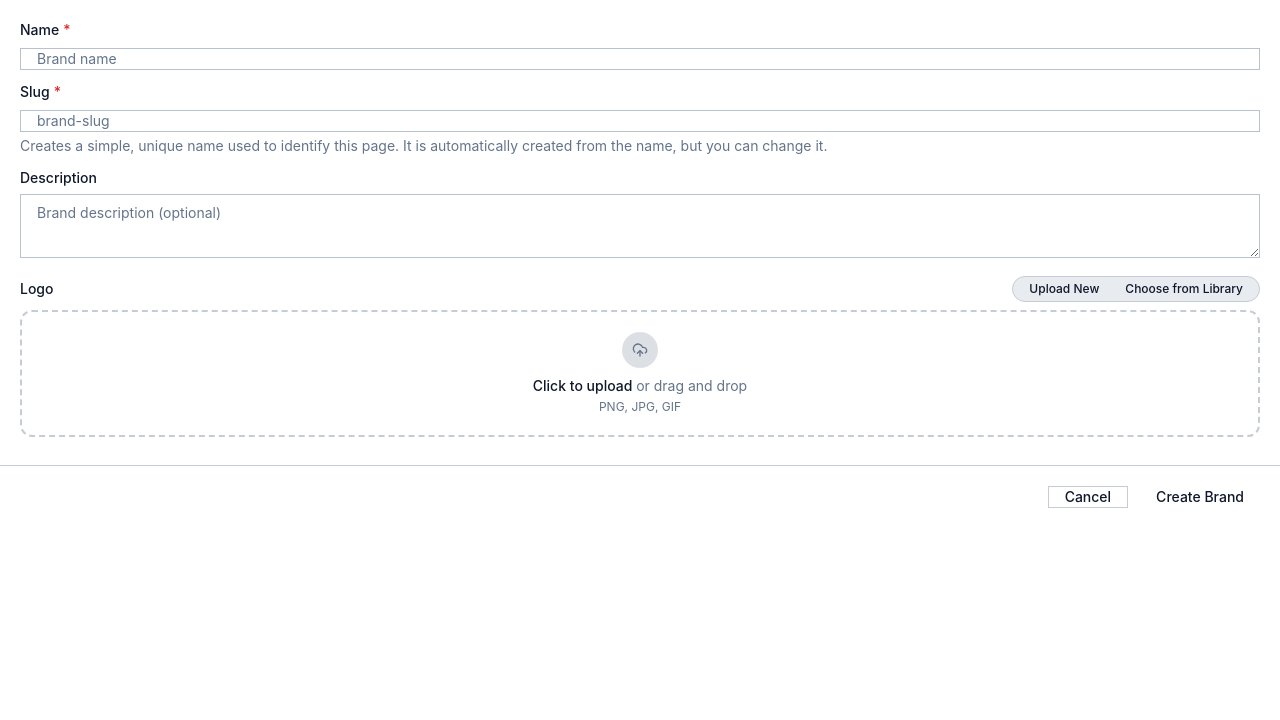
BrandForm logo toggle › switching to library mode shows the picker and hides the dropzone
The image size is (1280, 720).
Click the button "Choose from Library". click: (1184, 289)
box: [1113,281,1255,297]
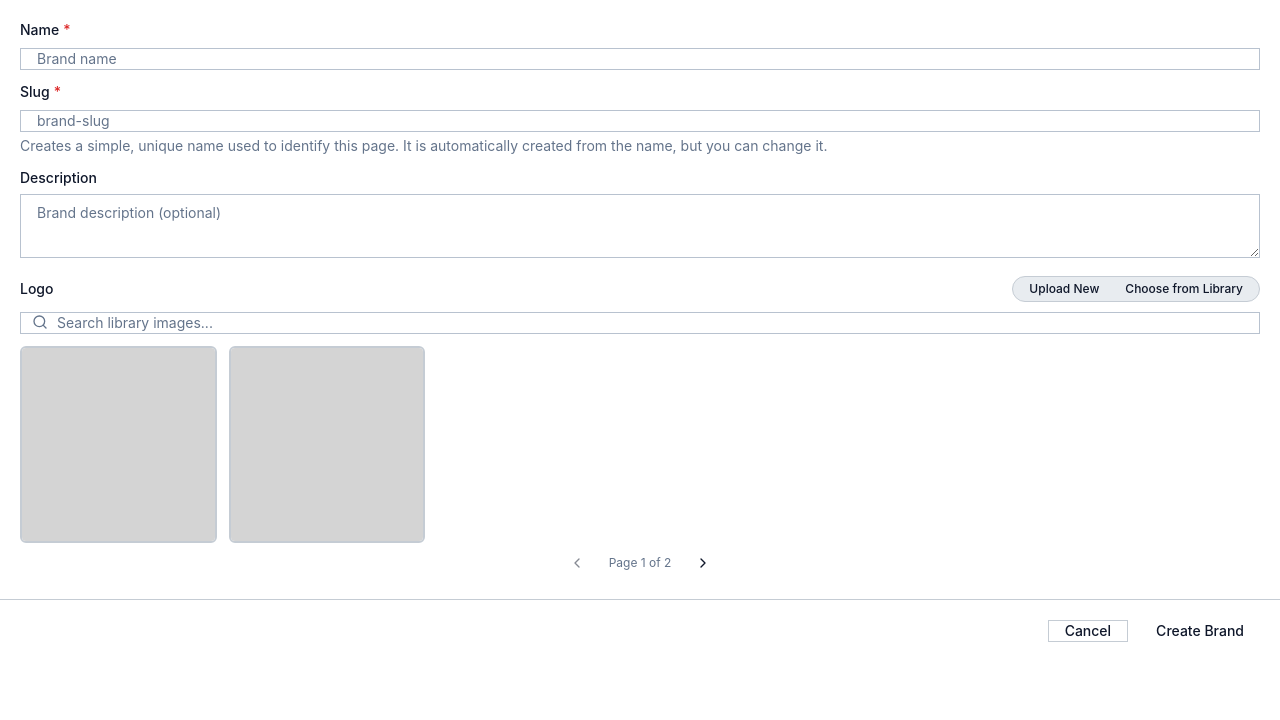
Expected: the button "Click to upload" is gone
